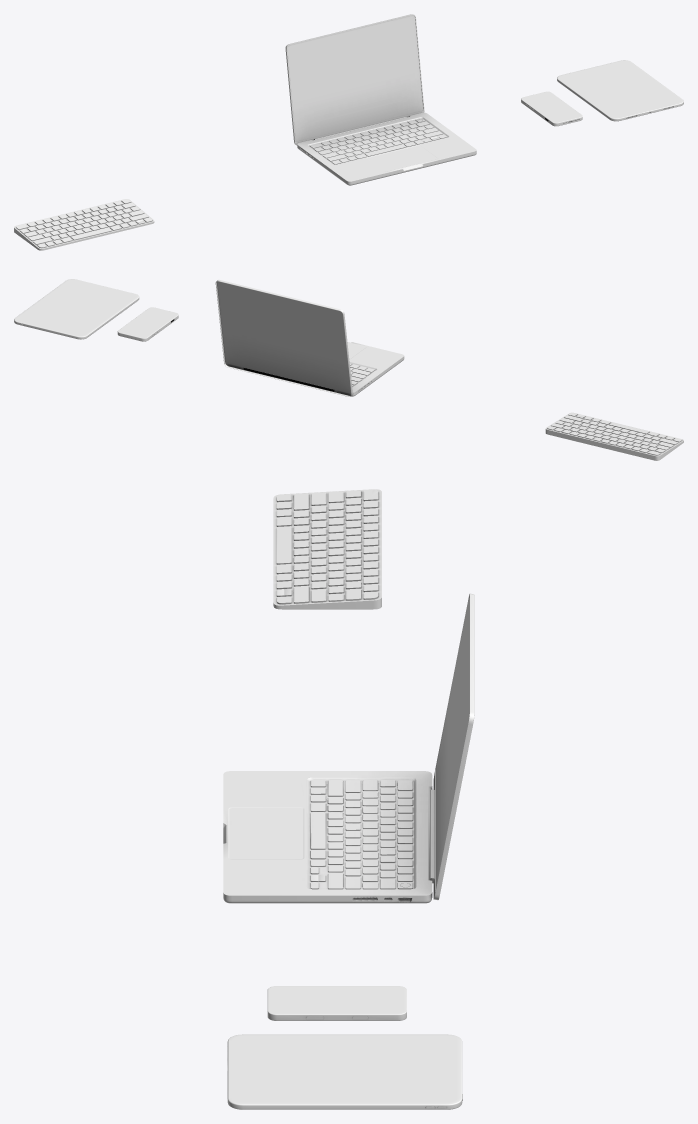
The model's file is comparisonSet.glb.
3 renders of one model, top to bottom at view 1: azimuth 30°, elevation 25°; view 2: azimuth 150°, elevation 25°; view 3: azimuth 270°, elevation 25°, orthographic. The views are drawn at different scales.
Visible parts, largest first — view 1: laptop14, phone, bluetoothKeyboard; view 2: laptop14, phone, bluetoothKeyboard; view 3: laptop14, phone, bluetoothKeyboard.
Part boxes in pixels (box(x1,y1,x2,y2)): laptop14: box(285, 14, 476, 185); phone: box(521, 60, 683, 126); bluetoothKeyboard: box(14, 199, 154, 250); laptop14: box(215, 280, 404, 396); phone: box(14, 279, 178, 341); bluetoothKeyboard: box(545, 412, 683, 460); laptop14: box(223, 593, 474, 903); phone: box(227, 986, 462, 1109); bluetoothKeyboard: box(273, 489, 381, 609).
Size of the model in its own units: 153 by 22.47 by 26.62.
3 materials, 3 textured.
